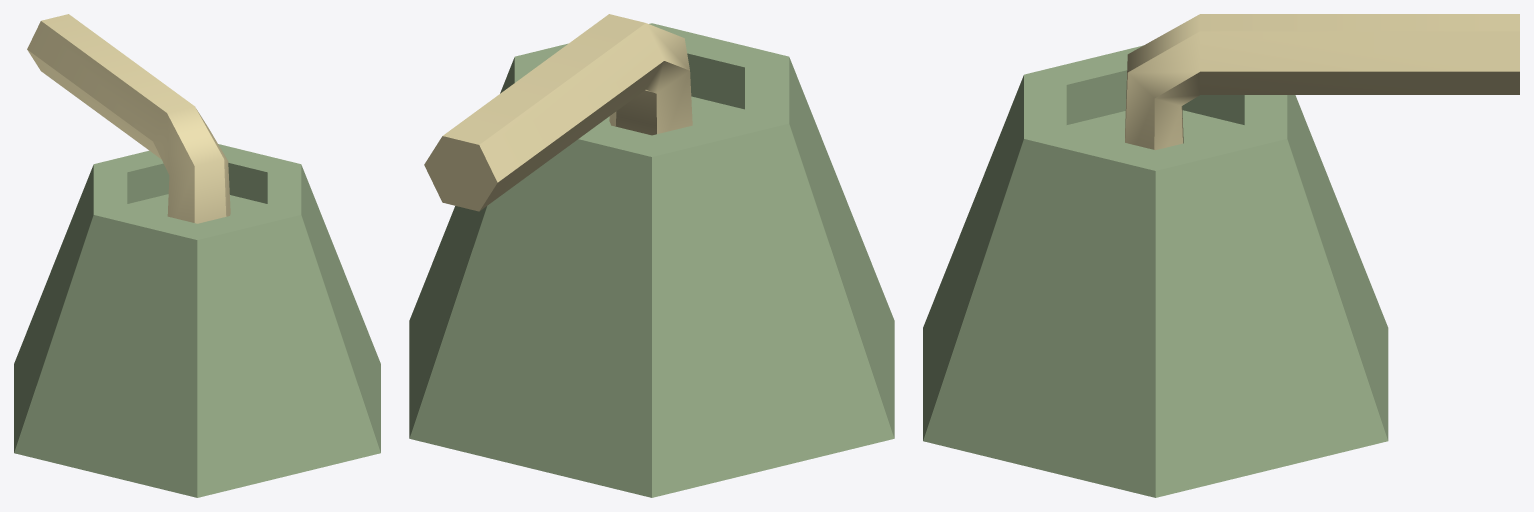
Rendered from geo_WallSconce_01.fbx.
3 views of the same model, side by side, from view 1: azimuth 30°, elevation 25°; view 2: azimuth 150°, elevation 25°; view 3: azimuth 270°, elevation 25° (orthographic). The views are drawn at different scales.
Parts seen in each view (by area): view 1: geo_WallSconcesShade_01, geo_WallSconcesPipe_01; view 2: geo_WallSconcesShade_01, geo_WallSconcesPipe_01; view 3: geo_WallSconcesShade_01, geo_WallSconcesPipe_01.
Boxes of the visible parts, <box> form: geo_WallSconcesShade_01: <box>14,144,380,497</box>; geo_WallSconcesPipe_01: <box>27,14,230,223</box>; geo_WallSconcesShade_01: <box>409,23,894,497</box>; geo_WallSconcesPipe_01: <box>424,14,692,211</box>; geo_WallSconcesShade_01: <box>923,45,1388,497</box>; geo_WallSconcesPipe_01: <box>1125,14,1519,150</box>.
Size of the model in its own units: 18.19 by 13.54 by 20.21.
